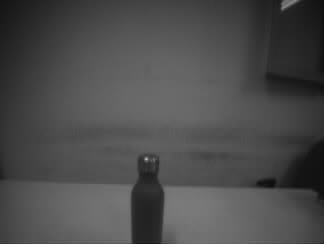Bottle: (129, 152, 164, 244)
